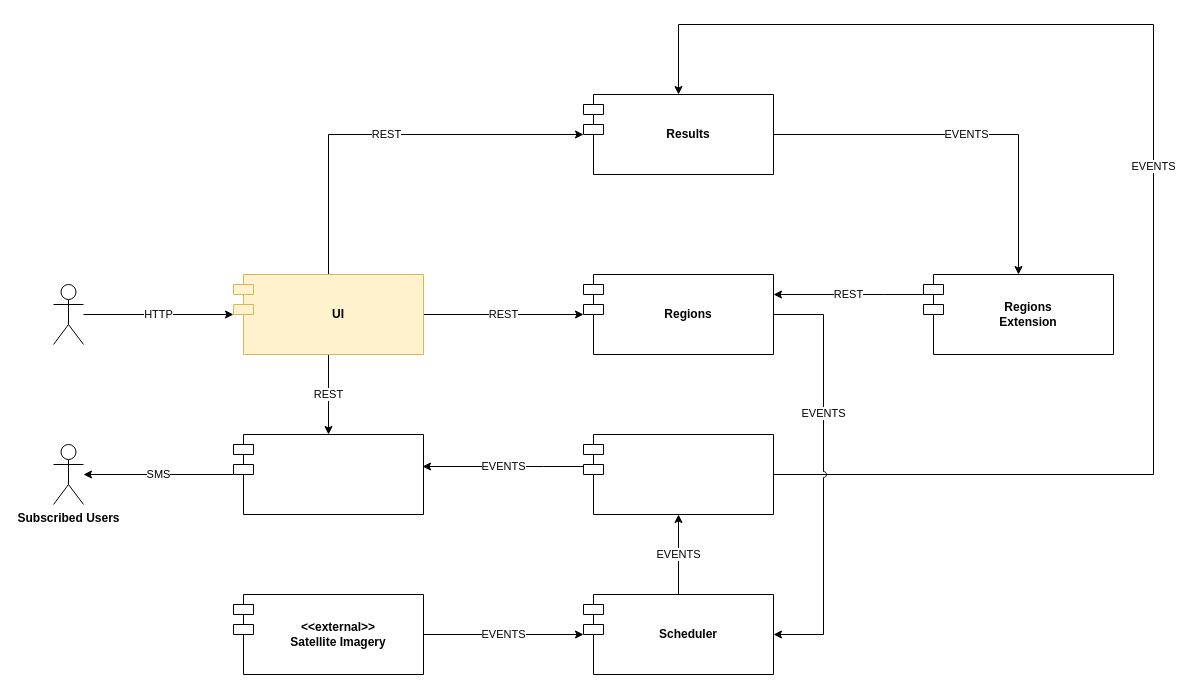
Image size: 1192x692. Some labels were removed from this diagram. The box of each missing label's shape, as (x1, y1, x2, y2) in pixels:
Executor: (582, 434, 774, 514)
Notifications: (232, 434, 424, 514)
User: (52, 284, 84, 344)
